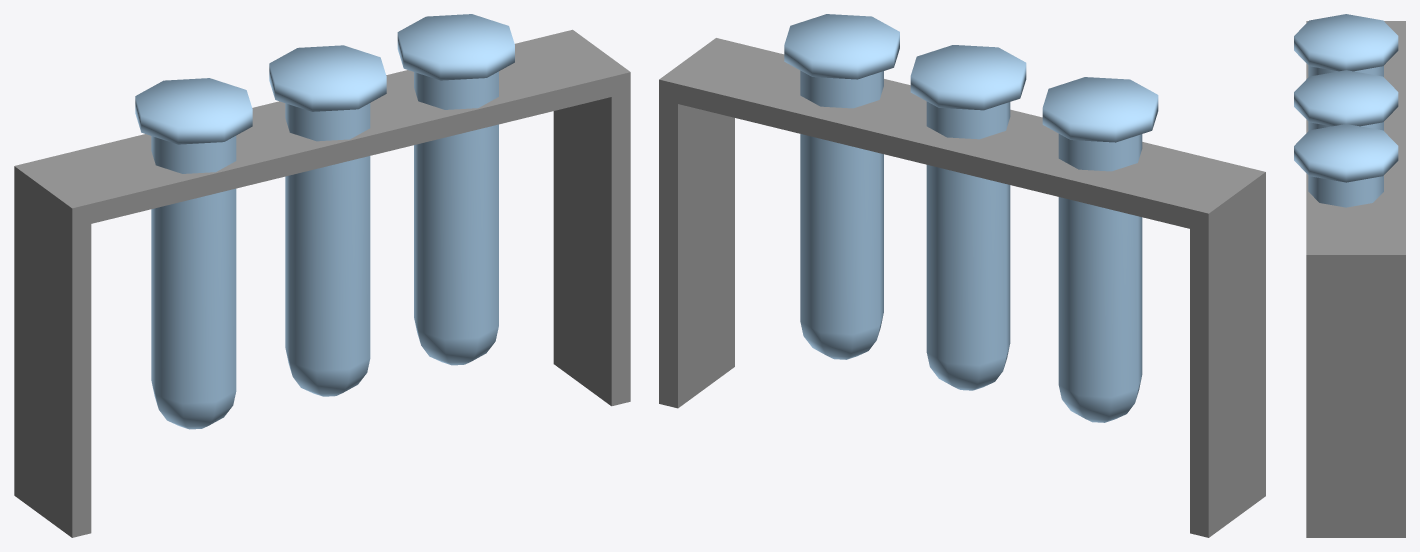
The model's file is Vials_Colored_01.fbx.
3 renders of one model, left to right at view 1: azimuth 30°, elevation 25°; view 2: azimuth 150°, elevation 25°; view 3: azimuth 270°, elevation 25°, orthographic. The views are drawn at different scales.
Parts seen in each view (by area): view 1: Vials_Colored_01; view 2: Vials_Colored_01; view 3: Vials_Colored_01.
Part boxes in pixels (x1,y1,x2,y2): Vials_Colored_01: (14, 14, 630, 537); Vials_Colored_01: (659, 14, 1265, 537); Vials_Colored_01: (1294, 14, 1405, 537).
Size of the model in its own units: 100 by 65.48 by 20.21.
